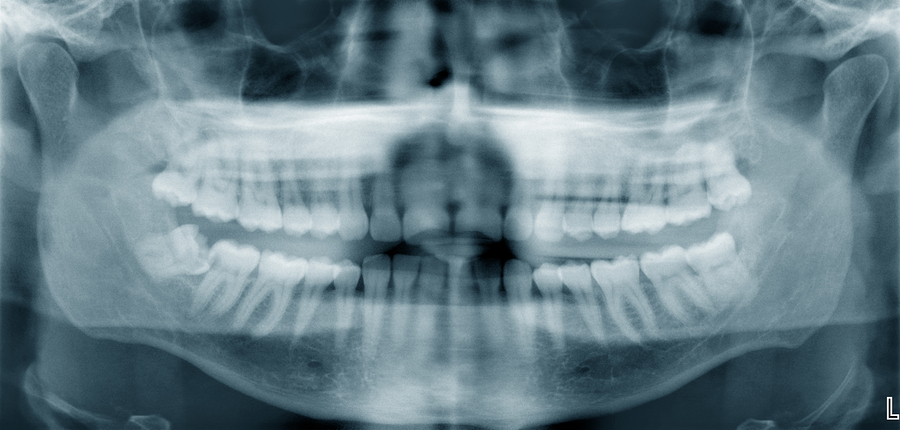canine: (500, 254, 537, 354), (360, 251, 394, 359), (535, 154, 572, 247), (337, 154, 368, 248)
incisor: (451, 151, 507, 245), (400, 156, 451, 239), (391, 248, 422, 354), (421, 250, 449, 357), (369, 162, 402, 244), (447, 258, 475, 349), (503, 164, 535, 242), (476, 259, 504, 346)
molar: (229, 246, 316, 338), (589, 246, 660, 345), (641, 239, 715, 327), (681, 229, 764, 305), (195, 239, 267, 320), (618, 141, 670, 238), (235, 140, 287, 236), (136, 223, 214, 284), (195, 139, 246, 226), (701, 134, 758, 210), (661, 147, 713, 226), (154, 142, 202, 210)
premolar: (557, 253, 608, 348), (295, 253, 342, 351), (587, 148, 632, 240), (532, 260, 571, 361), (561, 147, 600, 246), (333, 252, 365, 352), (278, 159, 318, 238), (310, 156, 342, 242)
